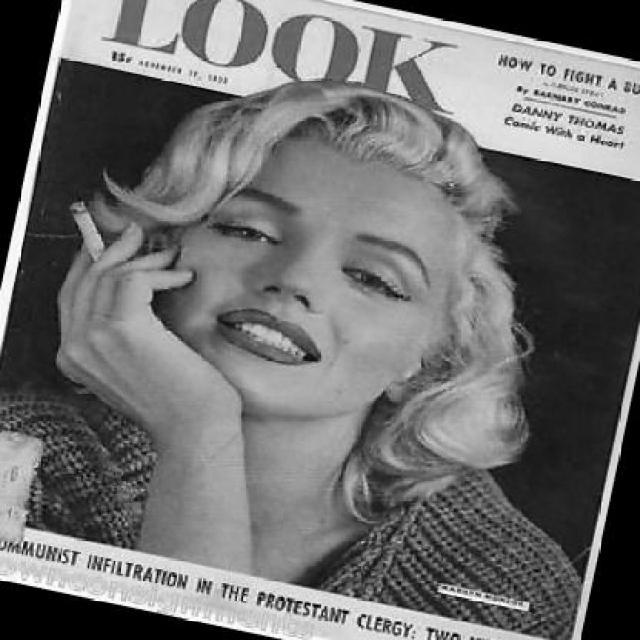smoke: (58, 196, 118, 264)
